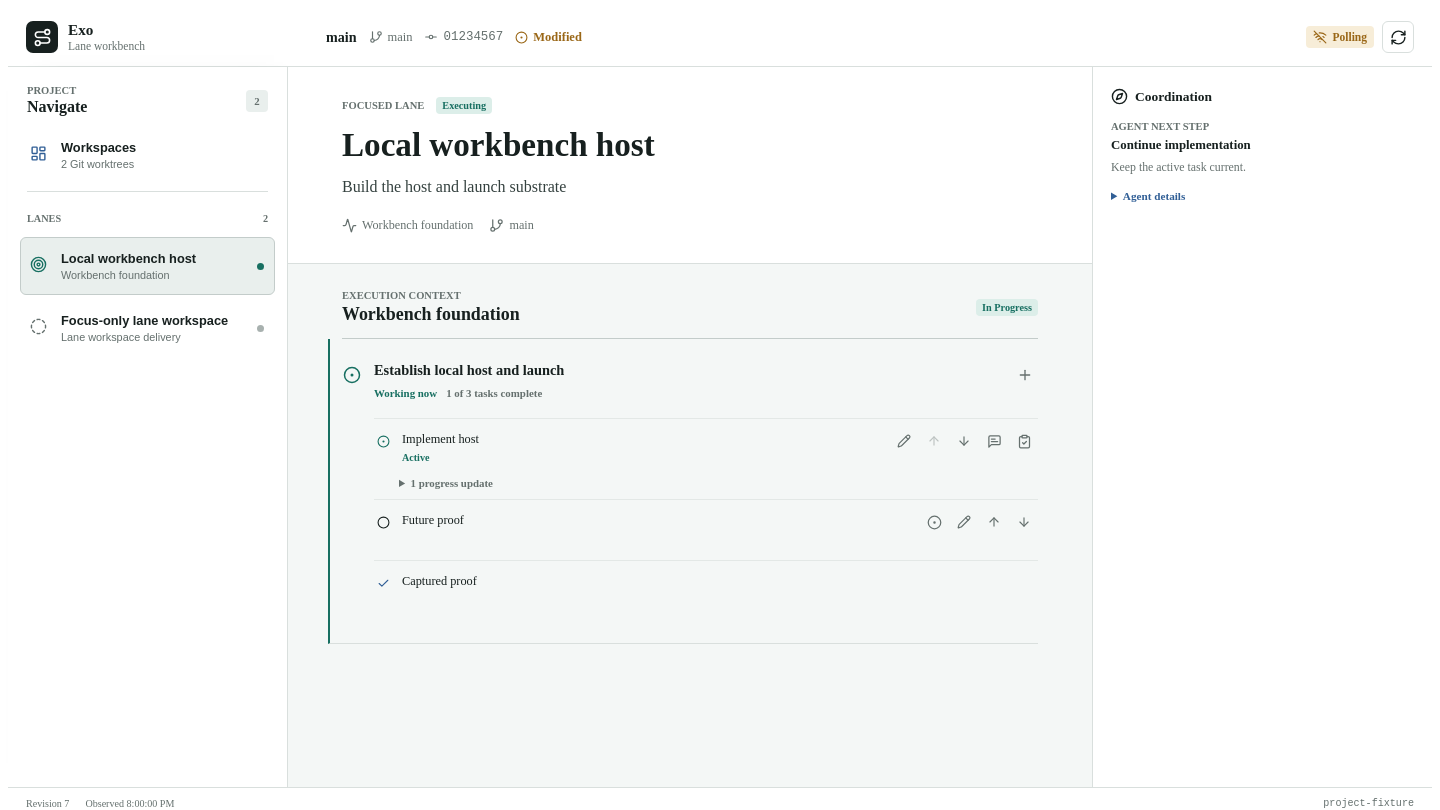
Test: focus-only lane workbench › keeps icon-only task status accessible and exposes recorded progress
This screenshot has width=1440, height=810.
Click the heading "1 progress update" at {"x": 446, "y": 483}, box [399,477,493,489]
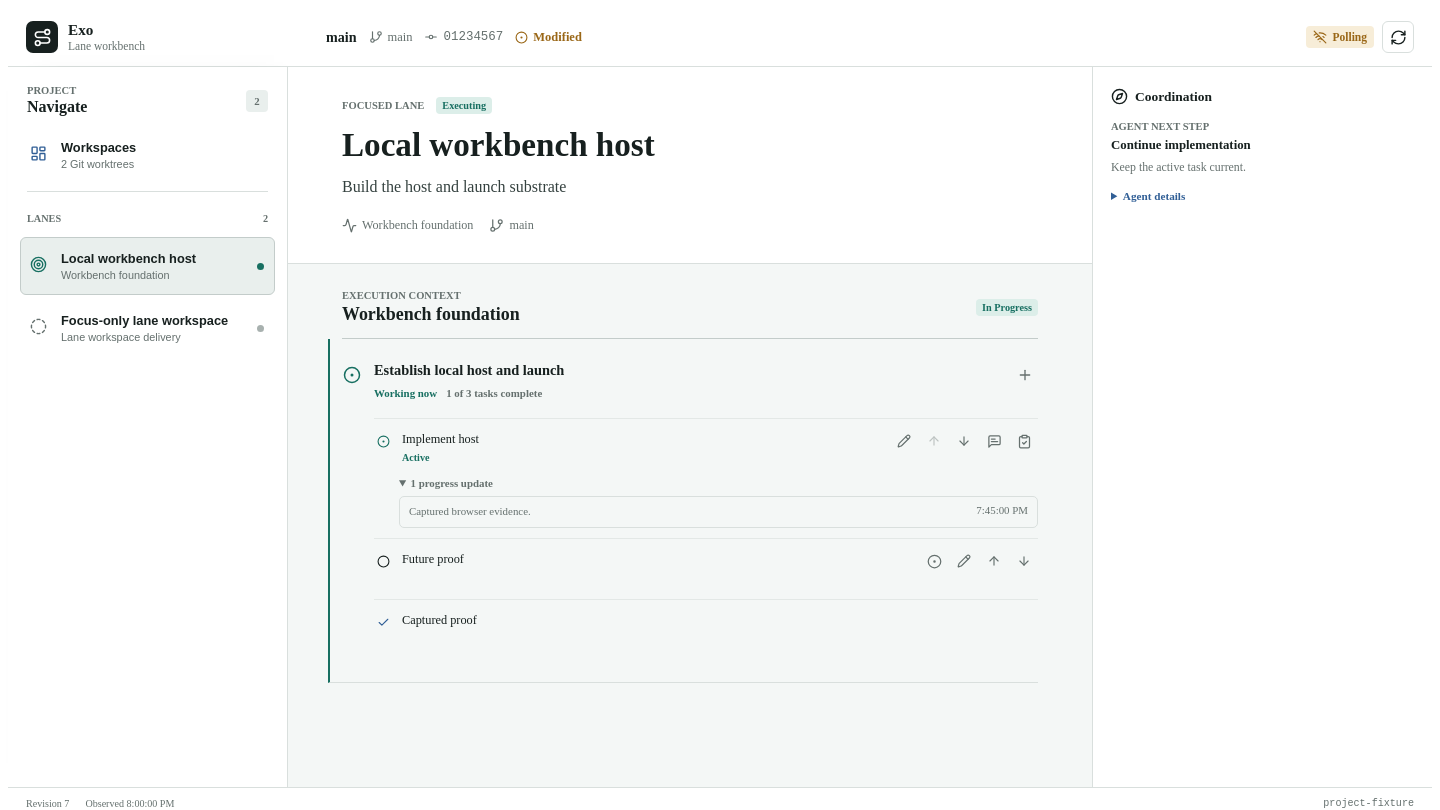
Expected: the text "Captured browser evidence." is shown, [409,505,531,517]
Expected: the text "7:45:00 PM" is shown, [976,504,1028,520]
